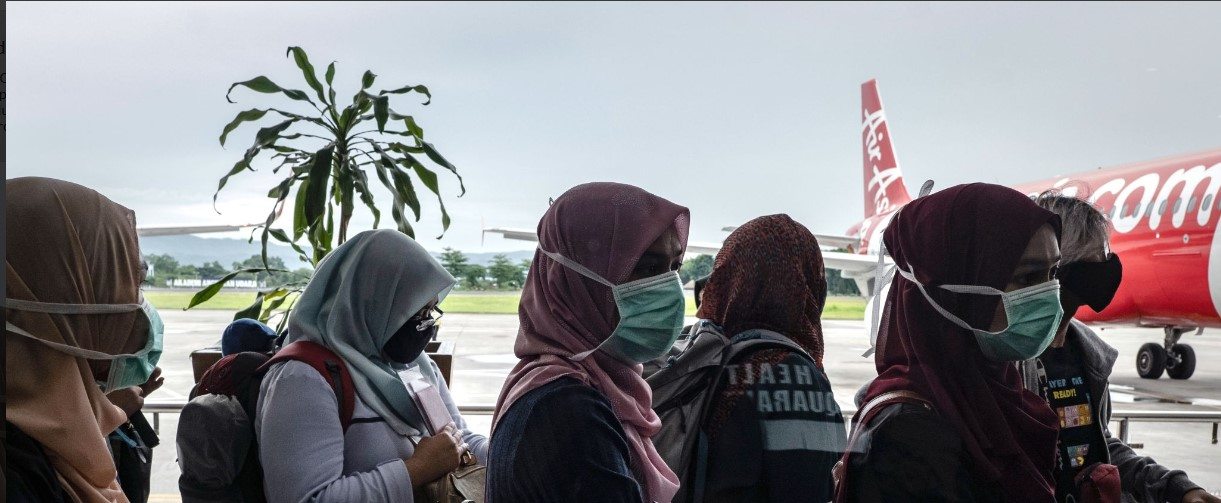face_with_mask: (551, 187, 694, 378), (931, 187, 1069, 370), (340, 230, 450, 370), (1059, 193, 1124, 308)
